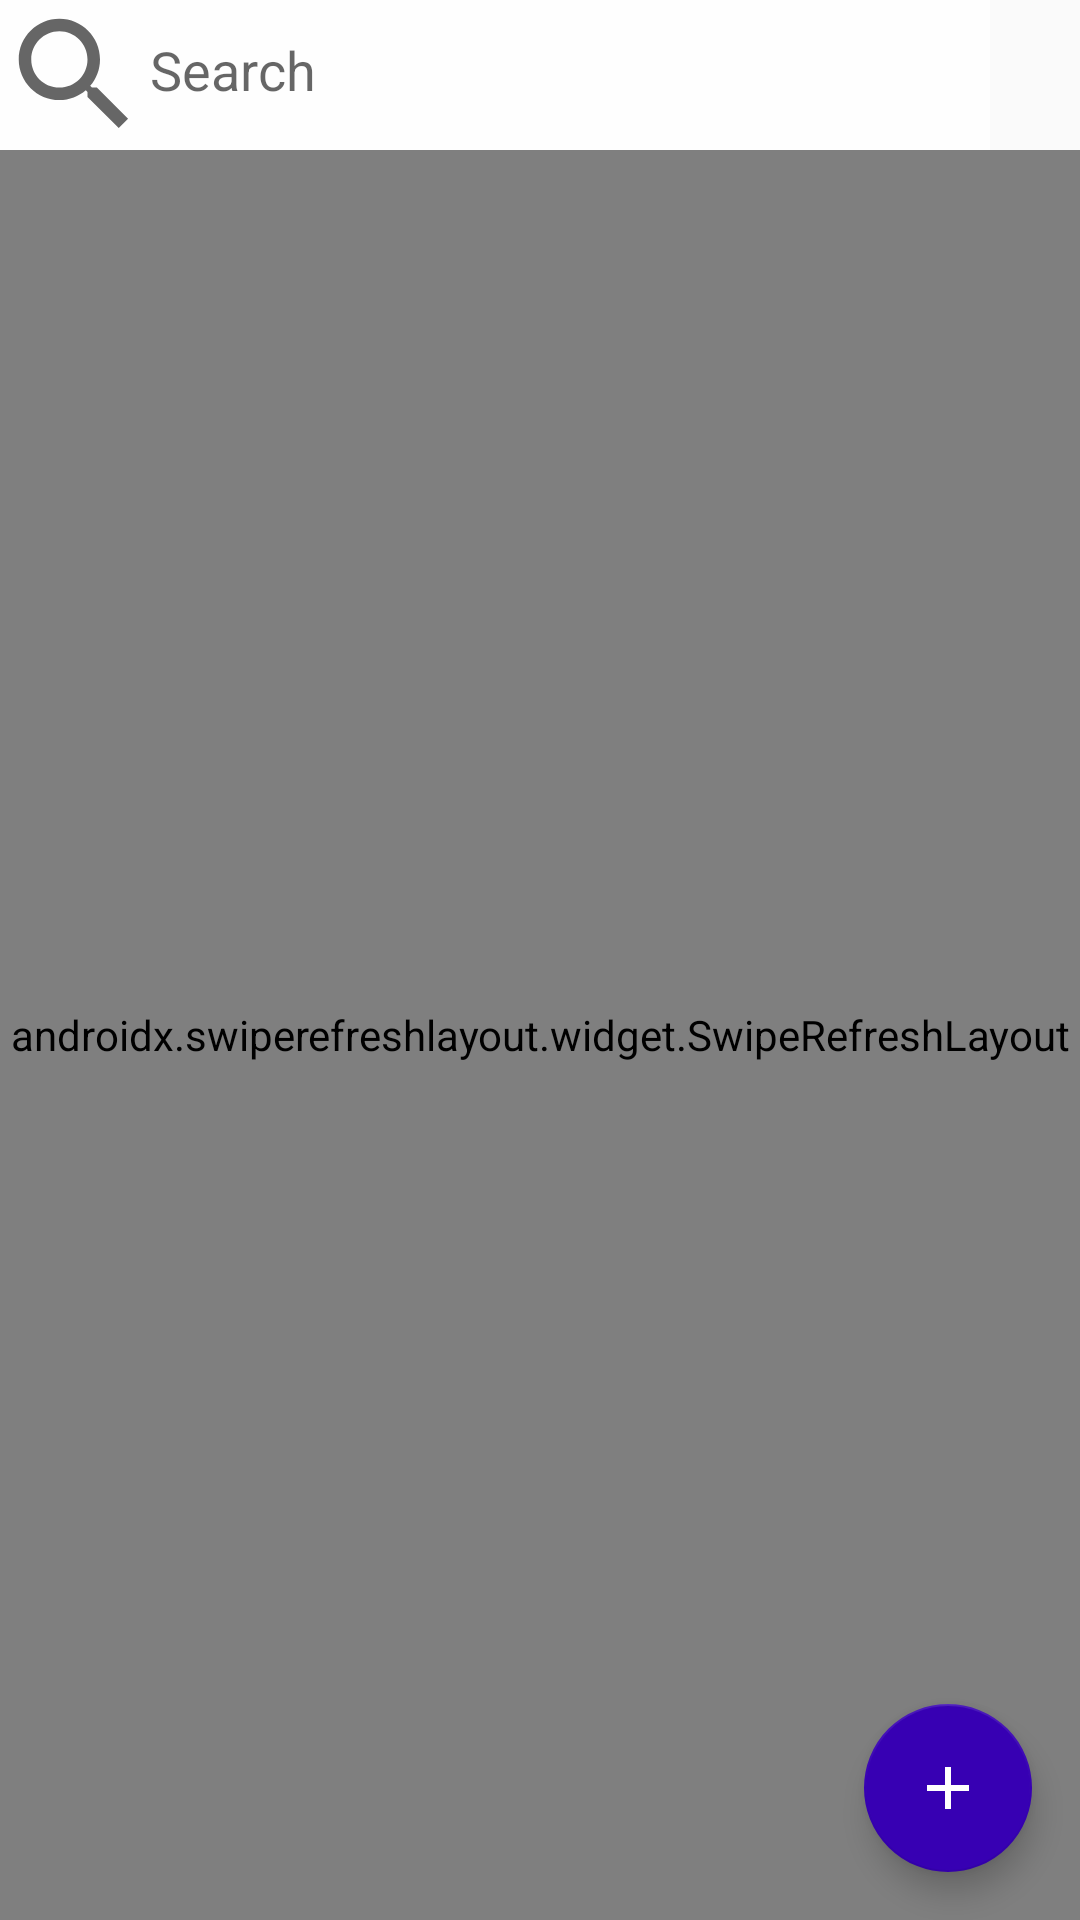

Where icons sit on this 1080w x 1920h app screen, as (x1, y1, x2, y2):
Add Folder: (864, 1704, 1032, 1872)
